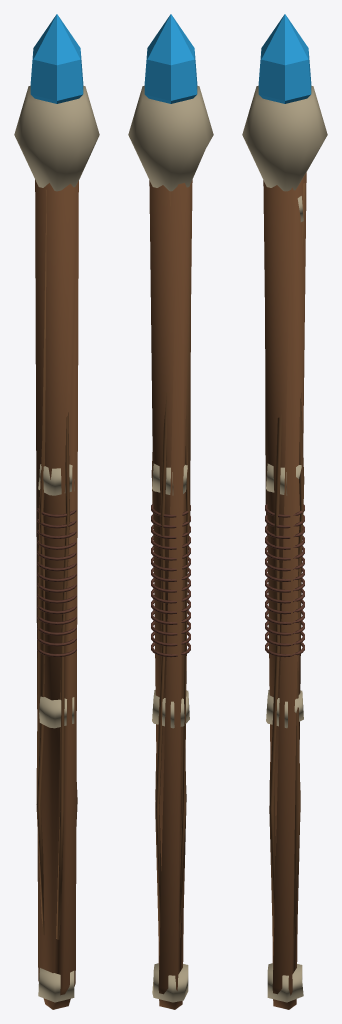
File: wooden-staff-standard-low.glb
3 views of the same model, side by side, from view 1: azimuth 30°, elevation 25°; view 2: azimuth 150°, elevation 25°; view 3: azimuth 330°, elevation 25° (orthographic).
Visible parts, largest first — view 1: wooden-staff__standard; view 2: wooden-staff__standard; view 3: wooden-staff__standard.
Boxes of the visible parts, x1,y1,x2,y2 form: wooden-staff__standard: (14,14,99,1009); wooden-staff__standard: (128,14,213,1009); wooden-staff__standard: (242,14,327,1009).
Size of the model in its own units: 0.13 by 1.66 by 0.13.
